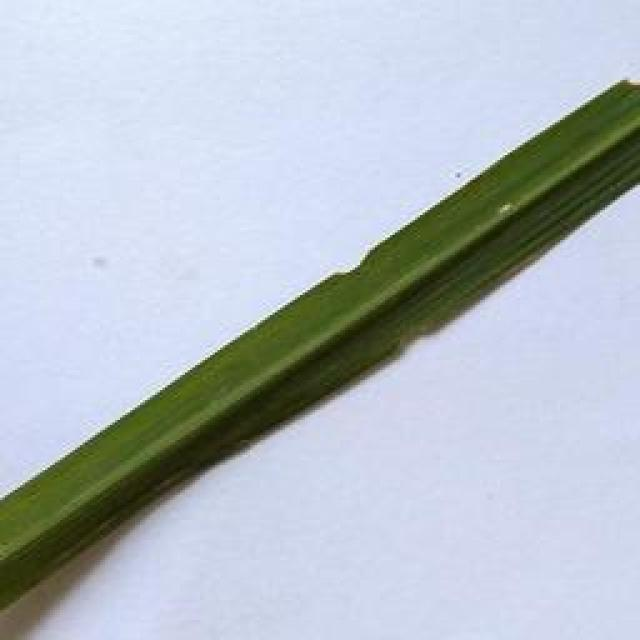Healthy-Plant: (0, 70, 640, 621)
